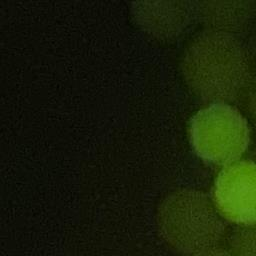negative: (179, 31, 249, 99), (155, 185, 225, 251), (129, 1, 201, 38), (194, 0, 256, 40), (223, 219, 256, 256), (192, 242, 233, 256)
positive: (183, 101, 252, 165), (209, 161, 256, 226)
